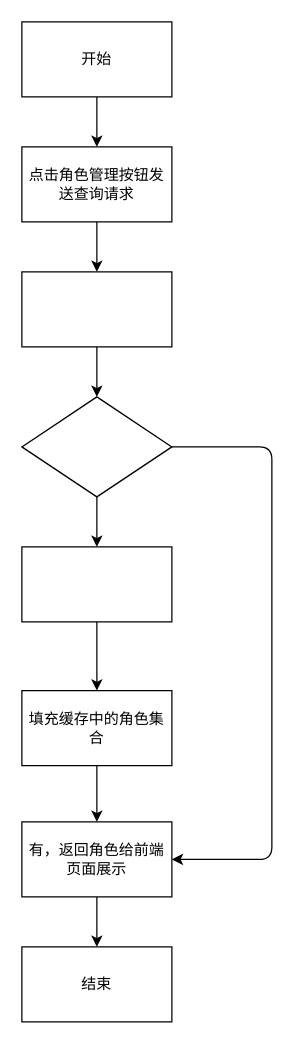
The diagram is 304 pixels wide and 1044 high, and some of its shapes have lost their labels. The centre of each missing label's shape, as x and y in pixels:
"后端接搜到查询请求" goes at (x=96, y=309).
"查看缓存中是否又角色集合" goes at (x=96, y=446).
"没有，查询数据库" goes at (x=96, y=584).
